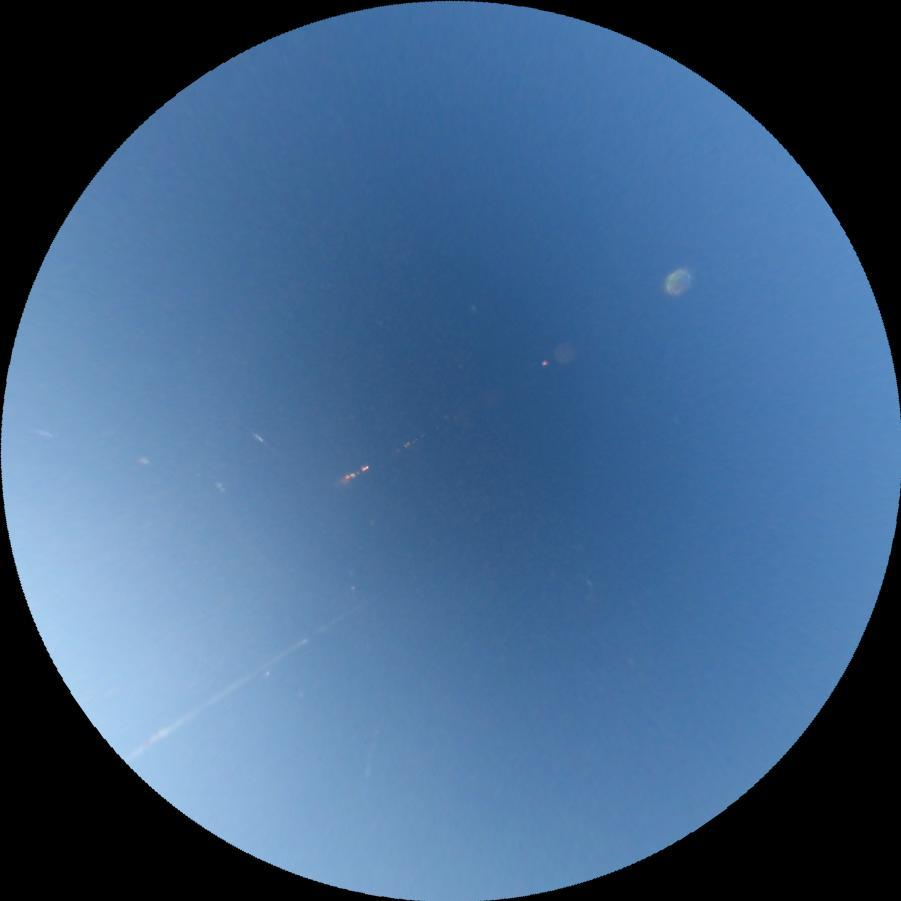contrail young: (20, 423, 55, 438)
parasite: (120, 590, 376, 763), (240, 419, 277, 453)
